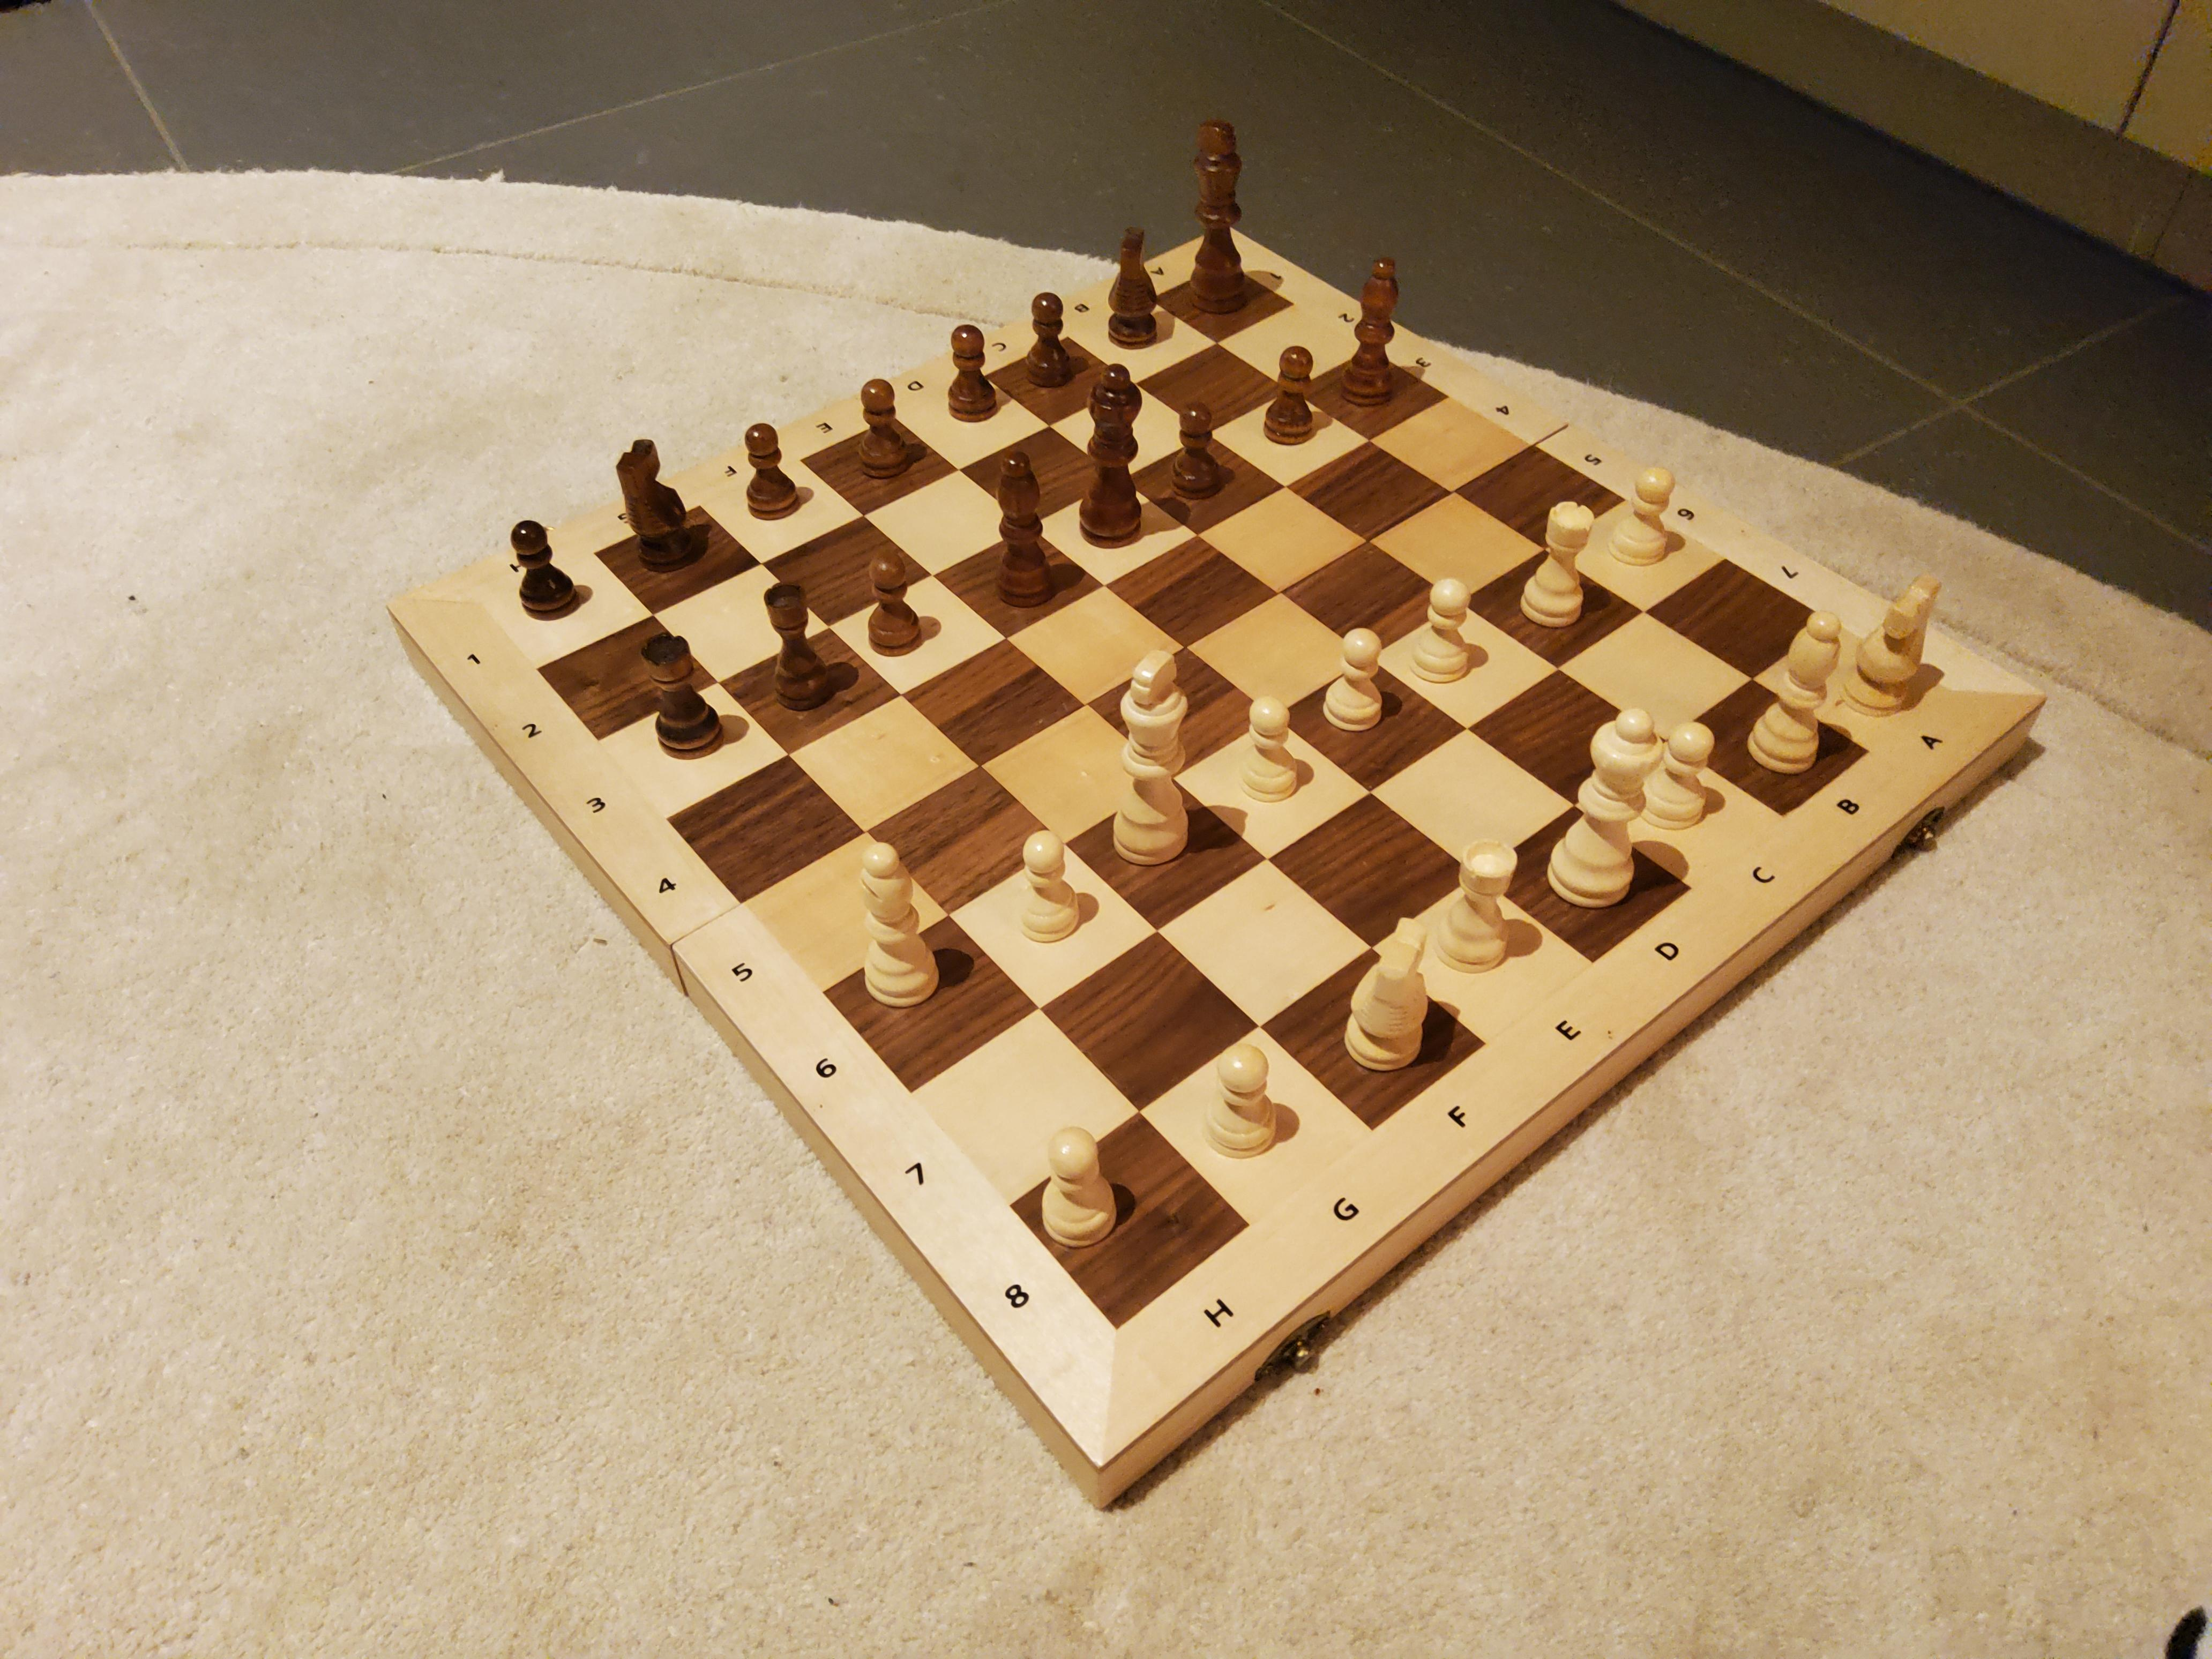schaak: (387, 120, 2055, 1506), (1106, 647, 1219, 852), (587, 415, 737, 558), (1313, 911, 1465, 1053), (1559, 708, 1669, 897), (1728, 612, 1841, 769), (838, 843, 961, 983), (1076, 364, 1170, 519), (1186, 125, 1263, 308), (1332, 240, 1420, 399), (740, 573, 855, 692), (1846, 577, 1942, 716), (1514, 488, 1608, 624), (632, 622, 745, 732), (482, 512, 592, 624), (1425, 838, 1534, 946), (1186, 1051, 1305, 1150), (1015, 1131, 1141, 1222), (986, 450, 1076, 570), (1096, 223, 1186, 338), (1224, 683, 1320, 784), (1012, 828, 1099, 931), (1404, 573, 1487, 674), (1651, 694, 1721, 814), (1602, 448, 1679, 554), (1165, 394, 1245, 490), (733, 413, 812, 507), (1249, 338, 1324, 432), (855, 373, 925, 474), (855, 552, 941, 634), (1325, 619, 1395, 718), (941, 319, 1010, 413), (1024, 293, 1080, 383)
